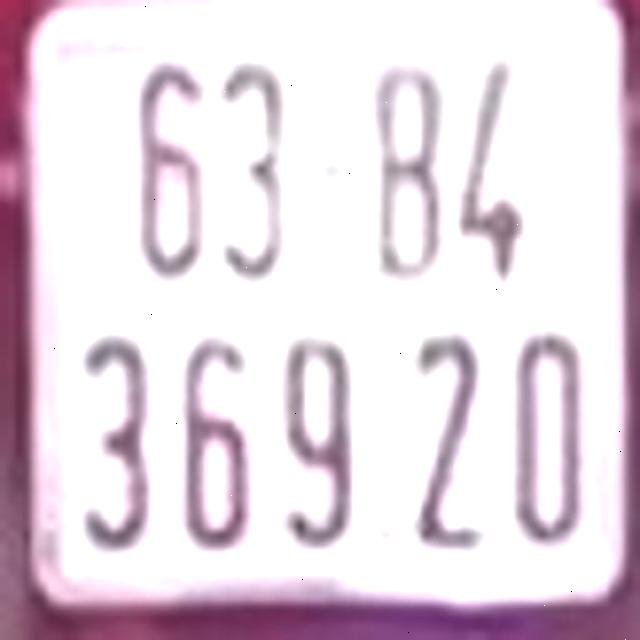0: (512, 328, 584, 543)
2: (414, 330, 485, 550)
3: (217, 56, 288, 280), (80, 330, 152, 550)
4: (458, 55, 529, 283)
6: (132, 56, 208, 279), (181, 329, 251, 549)
9: (282, 332, 355, 548)
B: (371, 56, 445, 283)
